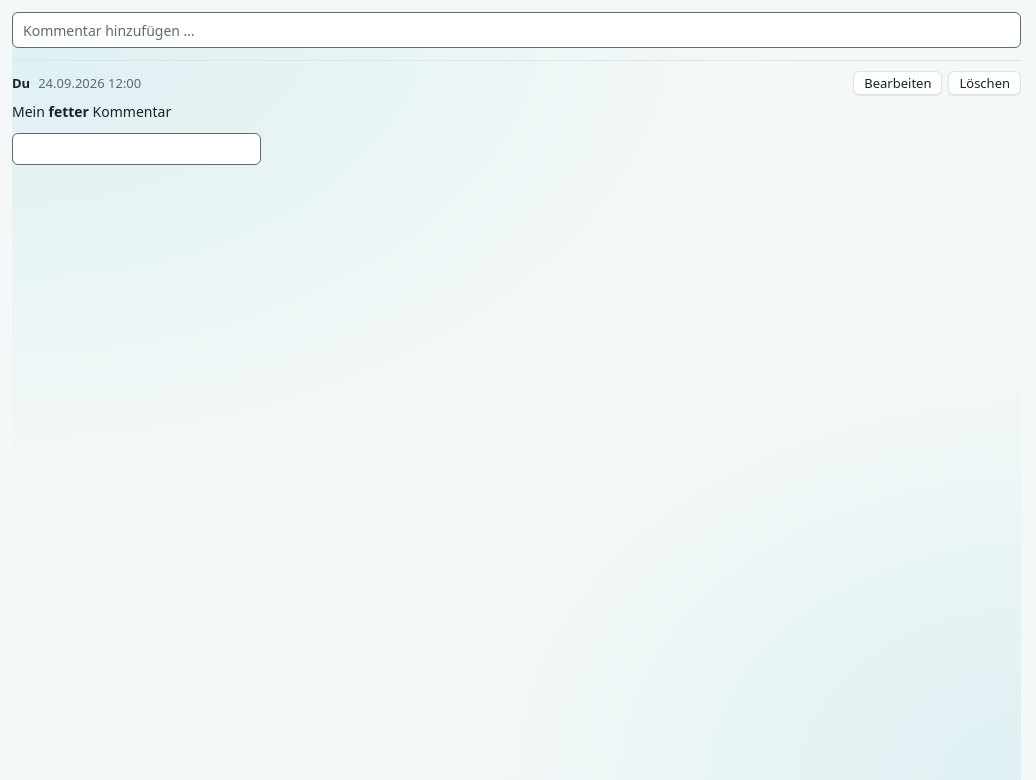
it: new comment › the focus after sending (MO-7b) › leaves the focus in another field after a failure
Click the button "Kommentar hinzufügen …".
click(109, 30)  # box [12,12,1021,48]
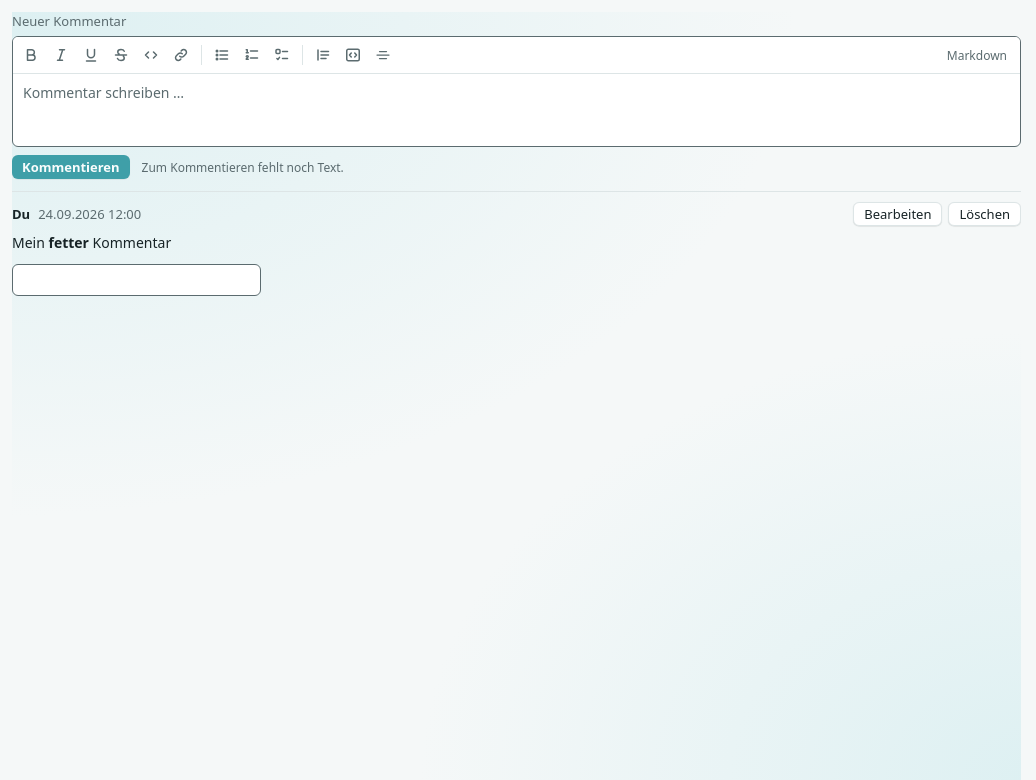
Click the button "Markdown".
click(977, 55)  # box [938,41,1016,69]
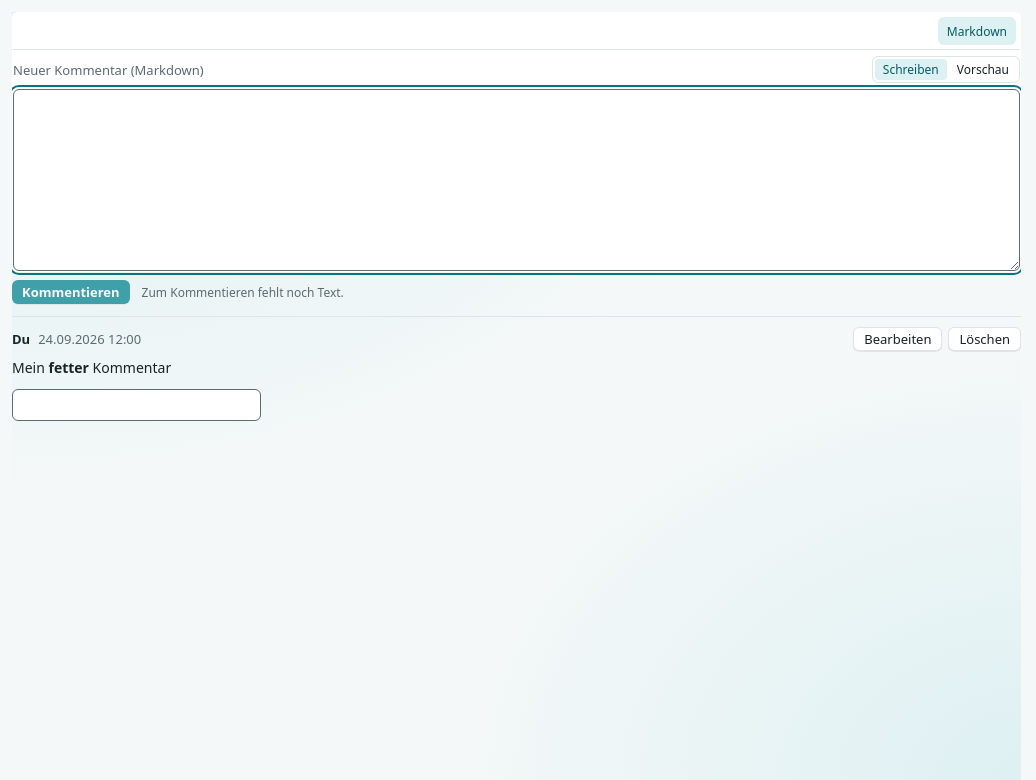
Type "Bleibt stehen" into the text box labelled "Neuer Kommentar (Markdown)".
click(516, 180); type("Bleibt stehen")  # box [13,89,1020,271]
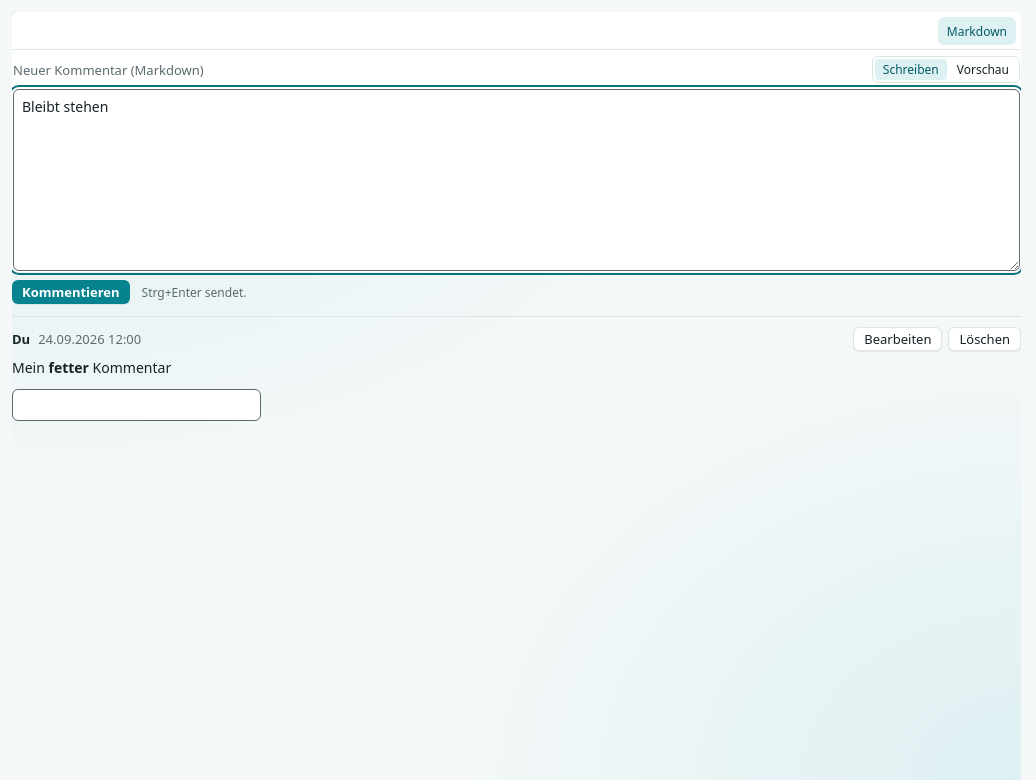
Click the button "Kommentieren".
click(71, 292)  # box [12,280,130,304]
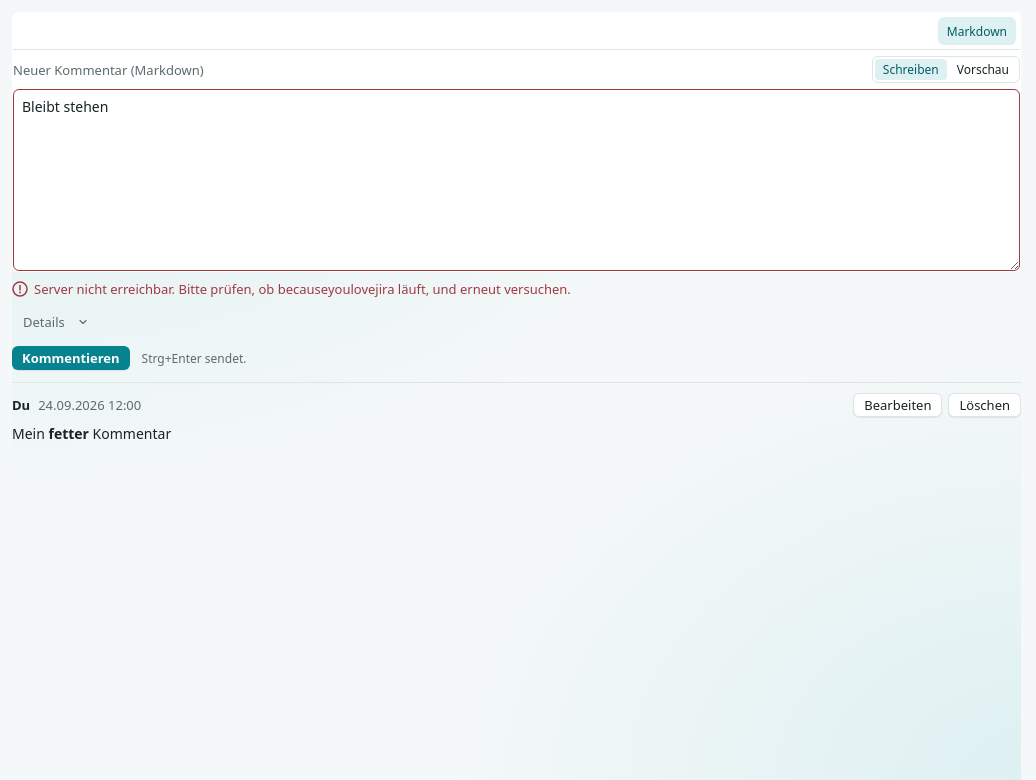
Result: the text "Server nicht erreichbar" is shown at [34,280,571,298]
